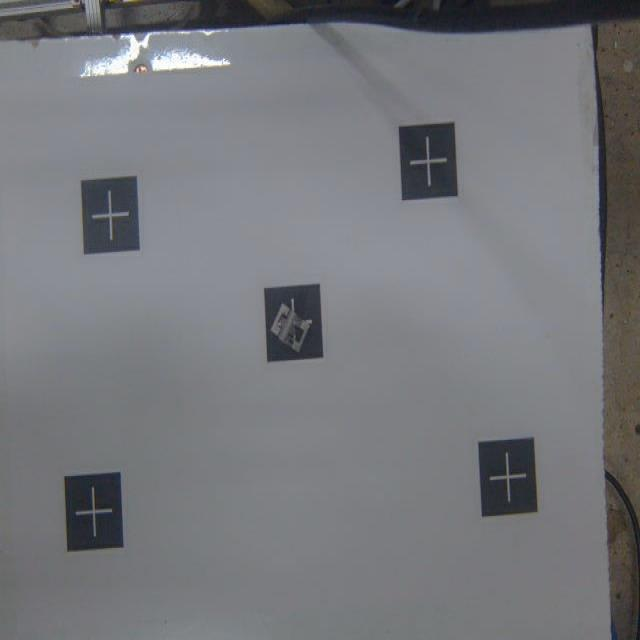pick3: (266, 286, 327, 363)
